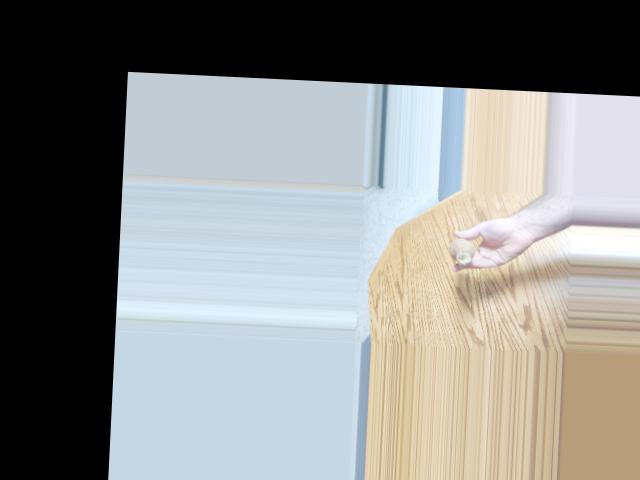sweet_potato: (446, 237, 474, 263)
